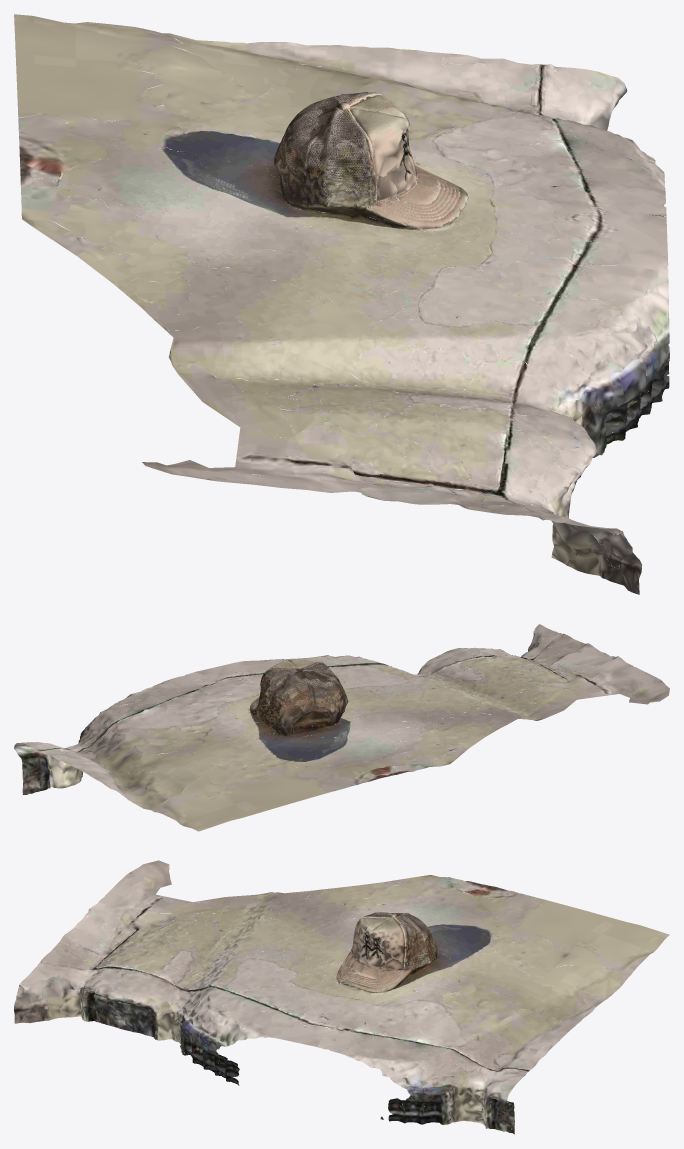
File: brown1.glb
The picture shows the model from 3 angles, top to bottom: view 1: azimuth 30°, elevation 25°; view 2: azimuth 150°, elevation 25°; view 3: azimuth 270°, elevation 25°; orthographic projection. The views are drawn at different scales.
Parts seen in each view (by area): view 1: textured; view 2: textured; view 3: textured.
Part boxes in pixels (x1=…): textured: x1=14, y1=14, x2=669, y2=594; textured: x1=14, y1=624, x2=669, y2=831; textured: x1=14, y1=860, x2=669, y2=1134.
Size of the model in its own units: 1.26 by 0.3393 by 1.63.
Materials: 1 (1 with a texture image).
